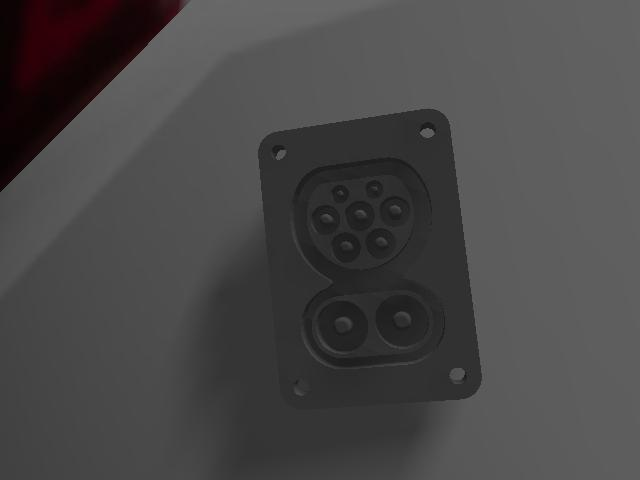EV-socket: (256, 106, 476, 413)
